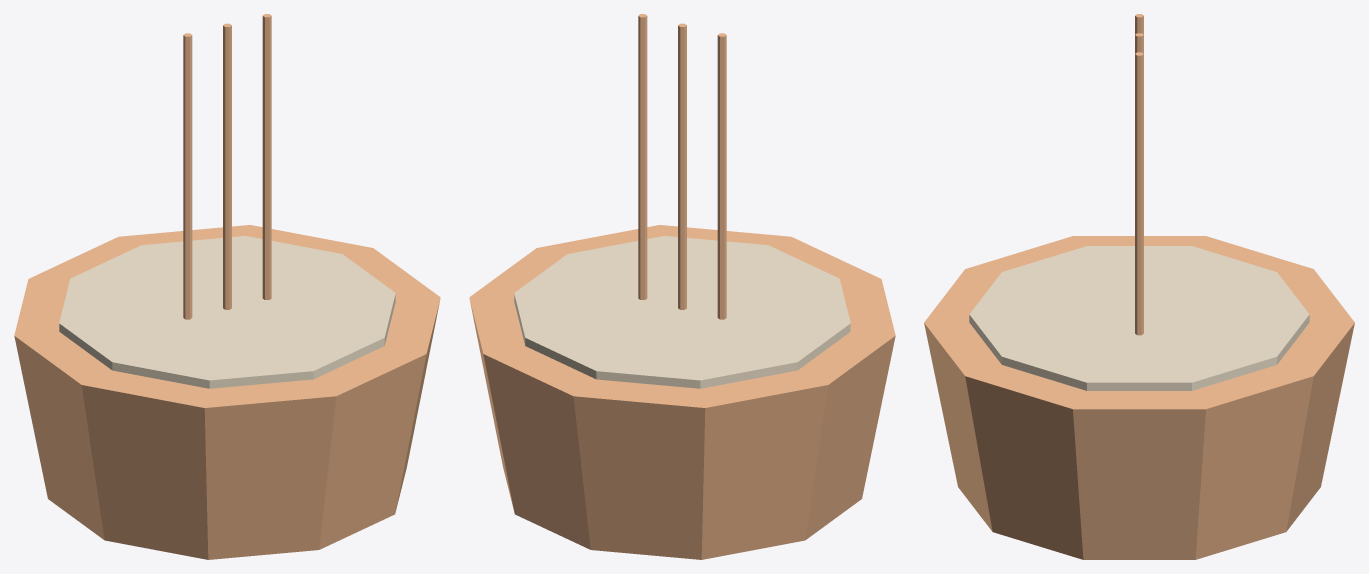
The picture shows the model from 3 angles, left to right: view 1: azimuth 30°, elevation 25°; view 2: azimuth 150°, elevation 25°; view 3: azimuth 270°, elevation 25°; orthographic projection.
Parts seen in each view (by area): view 1: Bowl, Ash, Incense stick, Incense stick.002, Incense stick.001; view 2: Bowl, Ash, Incense stick, Incense stick.002, Incense stick.001; view 3: Bowl, Ash, Incense stick.002.
Boxes of the visible parts, x1,y1,x2,y2 form: Bowl: (14,225,440,559); Ash: (59,236,395,388); Incense stick: (183,33,192,319); Incense stick.002: (262,14,271,299); Incense stick.001: (223,23,231,309); Bowl: (469,225,895,559); Ash: (514,236,850,388); Incense stick: (717,33,726,319); Incense stick.002: (638,14,647,299); Incense stick.001: (678,23,686,309); Bowl: (924,236,1354,559); Ash: (969,246,1309,390); Incense stick.002: (1135,52,1143,335).
Bounding box in the file's own units: 36.14 × 44 × 38.
